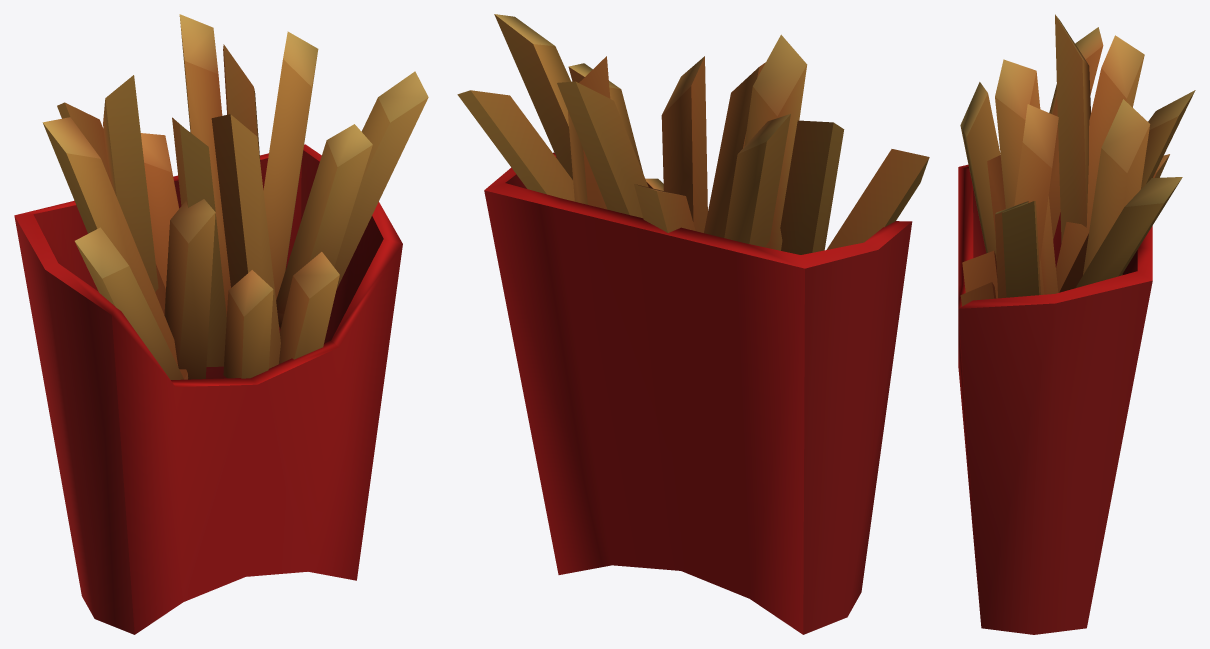
3 renders of one model, left to right at view 1: azimuth 30°, elevation 25°; view 2: azimuth 150°, elevation 25°; view 3: azimuth 270°, elevation 25°, orthographic. The views are drawn at different scales.
Visible parts, largest first — view 1: BoxOfFries; view 2: BoxOfFries; view 3: BoxOfFries.
Part boxes in pixels (x1=…): BoxOfFries: x1=14, y1=14, x2=428, y2=634; BoxOfFries: x1=457, y1=14, x2=929, y2=634; BoxOfFries: x1=958, y1=14, x2=1195, y2=634.
Bounding box in the file's own units: 0.3672 × 0.5 × 0.2055.
